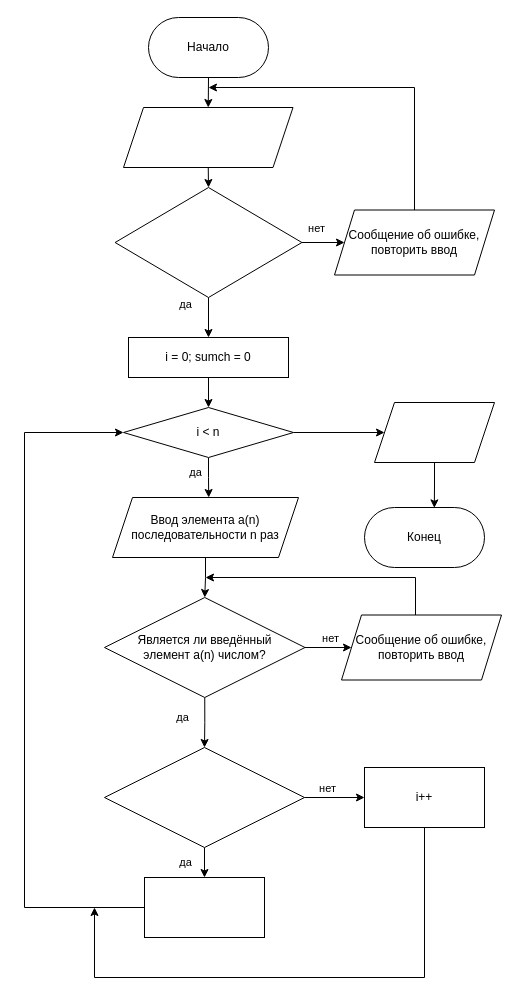
Image size: 519x1003. Some labels were removed from this diagram. The centre of each missing label's shape, as x and y in pixels:
"i++ ; sumch += a(n)" belongs at point 204,907.
"Ввод длины последовательности (n)" belongs at point 207,137.
"Вывод sumch" belongs at point 434,432.
"Является ли n целым положительным числом?" belongs at point 208,242.
"Является ли введённый элемент a(n) чётным?" belongs at point 204,797.
